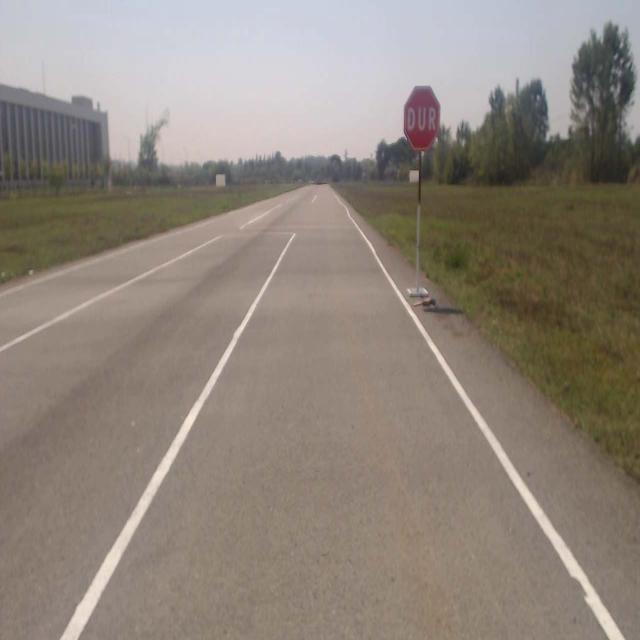dur: (403, 88, 438, 151)
